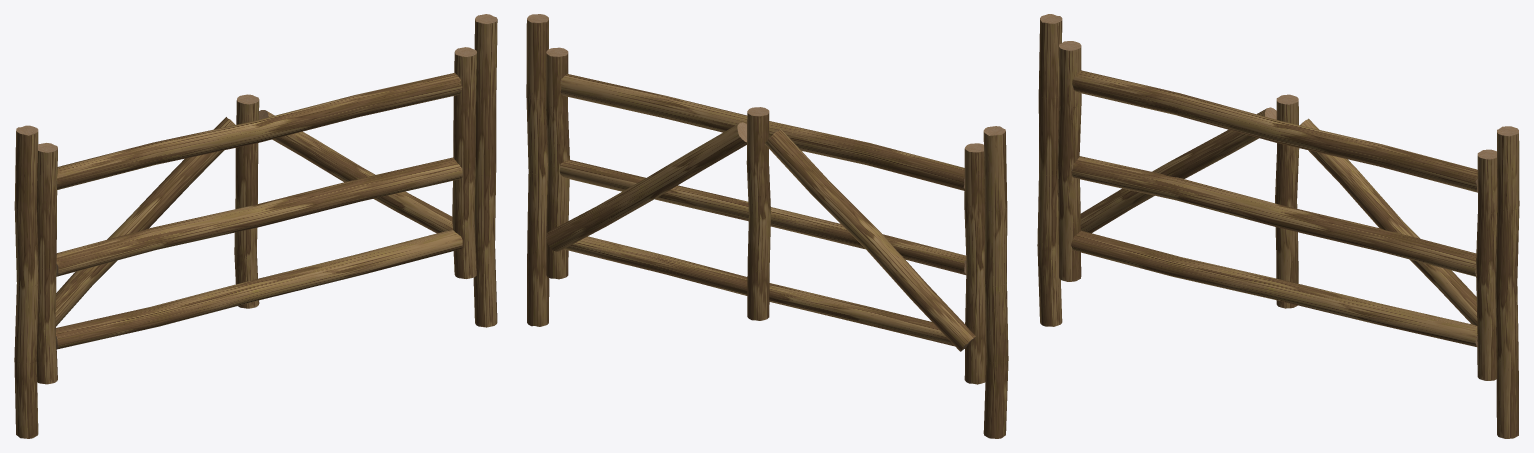
The model's file is WoodFenceDoor.fbx.
The picture shows the model from 3 angles, left to right: view 1: azimuth 30°, elevation 25°; view 2: azimuth 150°, elevation 25°; view 3: azimuth 330°, elevation 25°; orthographic projection.
Visible parts, largest first — view 1: Door, Posts; view 2: Door, Posts; view 3: Door, Posts.
Boxes of the visible parts, x1=… form: Door: x1=36, y1=47, x2=477, y2=384; Posts: x1=14, y1=14, x2=497, y2=438; Door: x1=545, y1=47, x2=986, y2=384; Posts: x1=526, y1=14, x2=1008, y2=438; Door: x1=1057, y1=41, x2=1497, y2=380; Posts: x1=1037, y1=14, x2=1519, y2=438.
Bounding box in the file's own units: 836 × 507 × 64.49.
